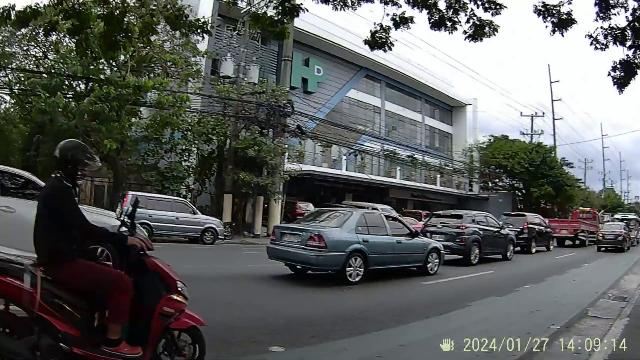car: (270, 205, 446, 283), (419, 207, 519, 264), (499, 208, 558, 255)
utility_post: (546, 63, 566, 152), (517, 108, 547, 160), (600, 120, 612, 187), (578, 154, 594, 188), (616, 148, 628, 192)
